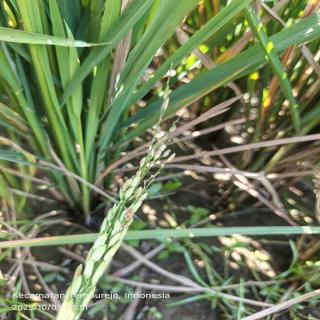Busuk-Bulir: (125, 204, 137, 220), (120, 179, 133, 190), (122, 218, 133, 228), (135, 186, 143, 199), (139, 192, 148, 201), (135, 169, 142, 177)
